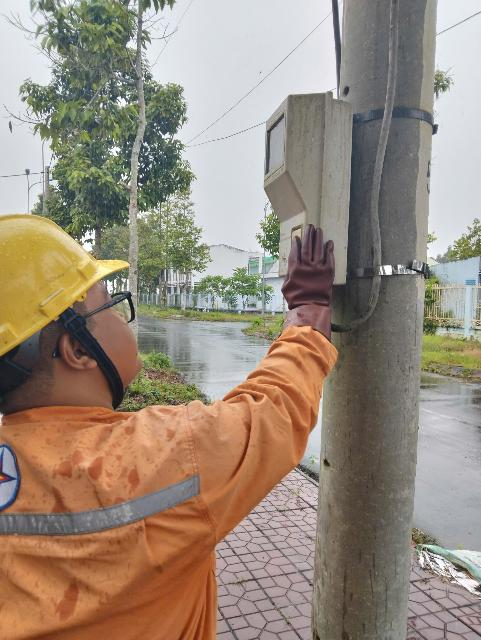gloves: (261, 225, 361, 340)
helmet: (0, 199, 146, 355)
